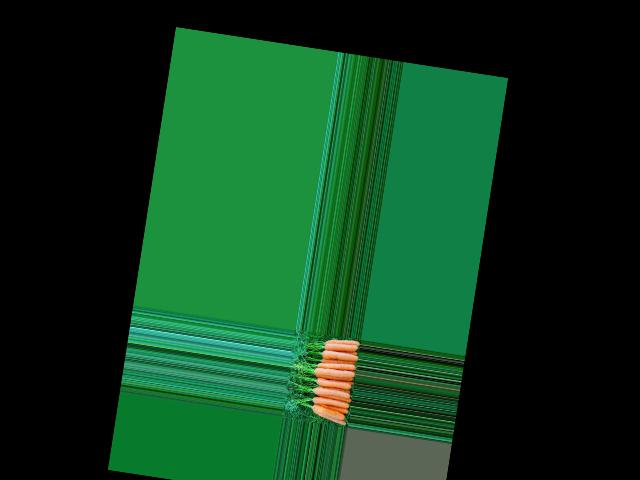carrot: (325, 337, 361, 348)
